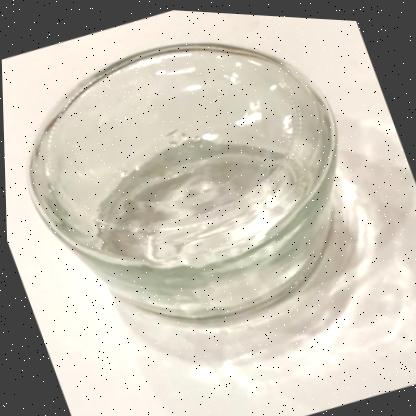Glass: (27, 42, 334, 317)
